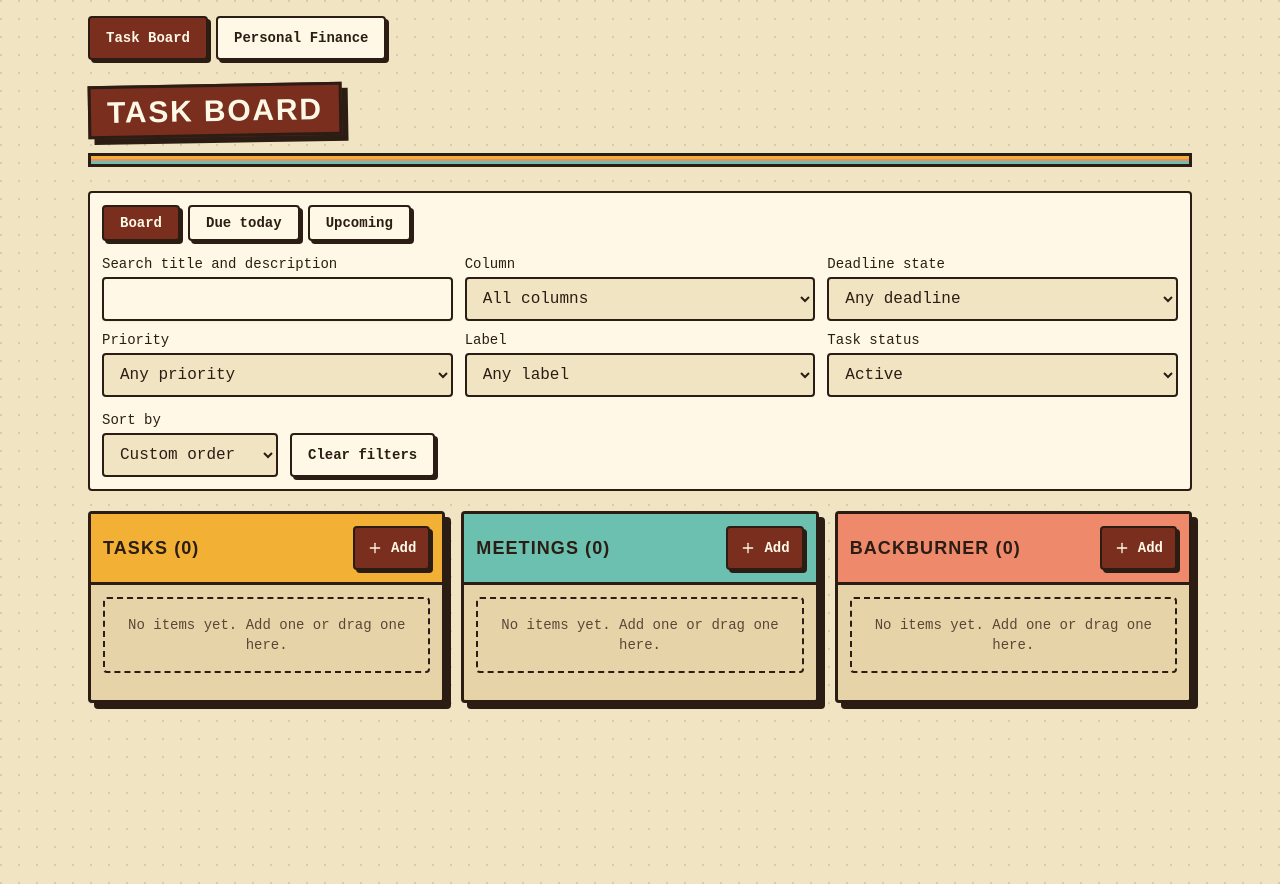
it: Personal Finance workspace › switches in the same page and keeps task data available
Click the tab "Personal Finance": (301, 38) [216,16,386,60]
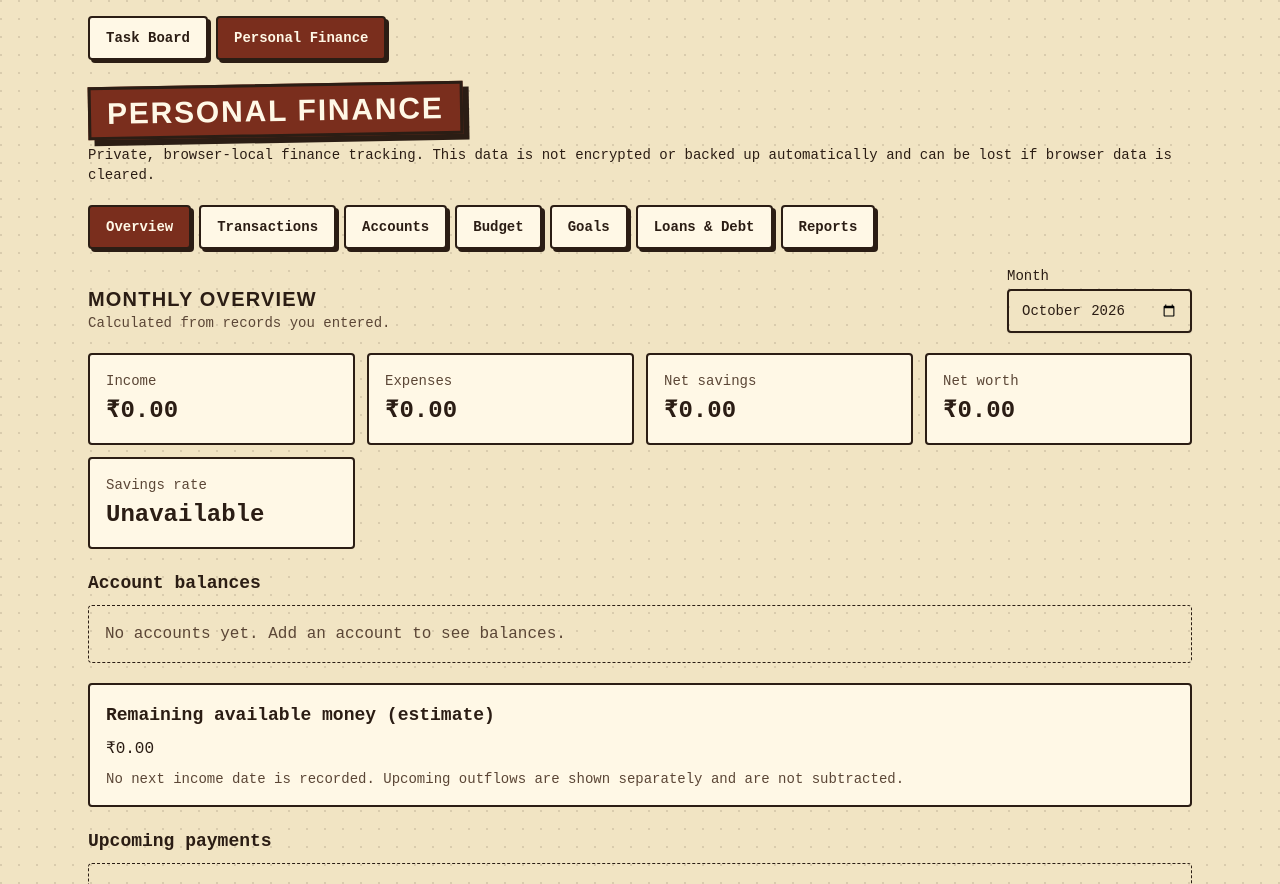
Check: the heading "Personal Finance" is shown, box [88,81,463,140]
Click the tab "Task Board": (148, 38) [88,16,208,60]
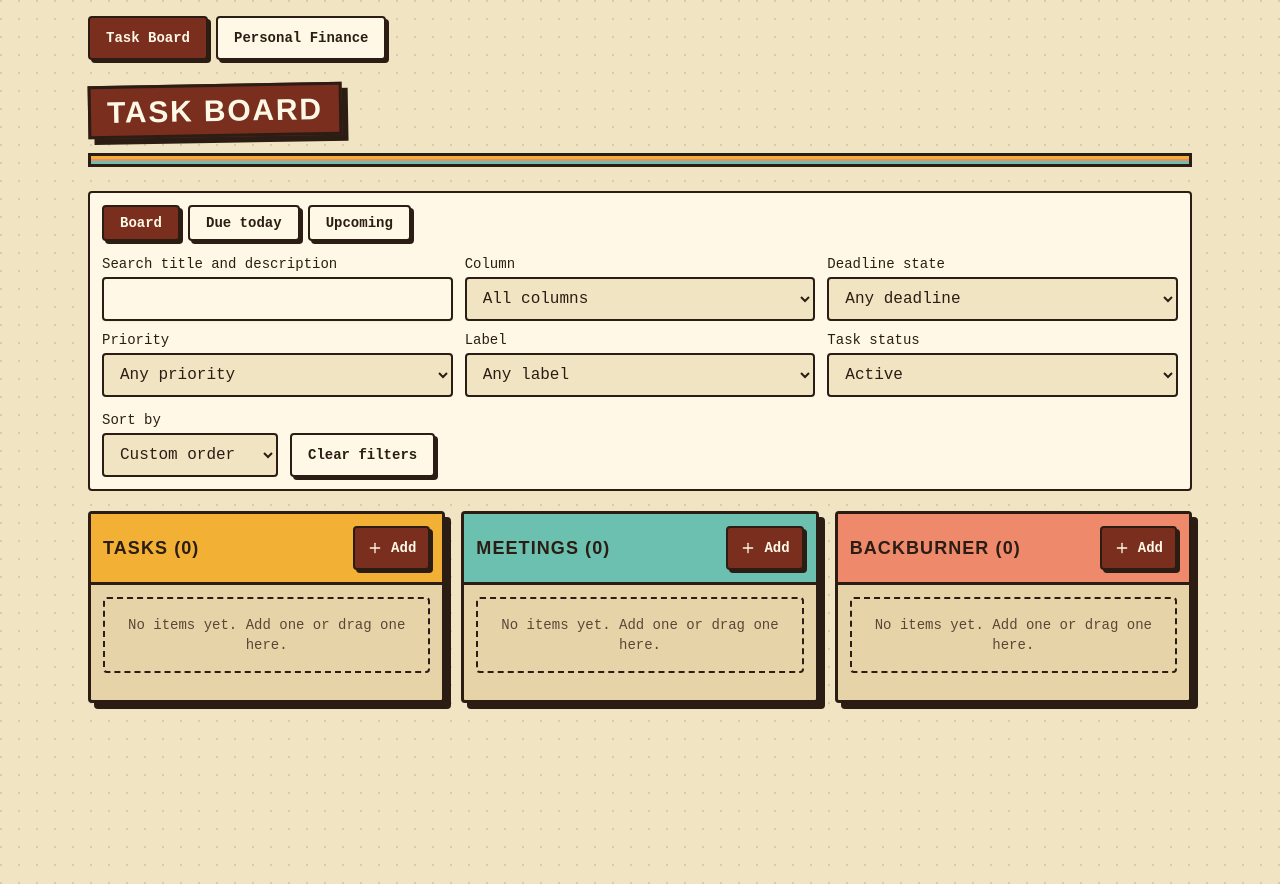
Check: the heading "Task Board" is shown, box [88,82,342,139]
